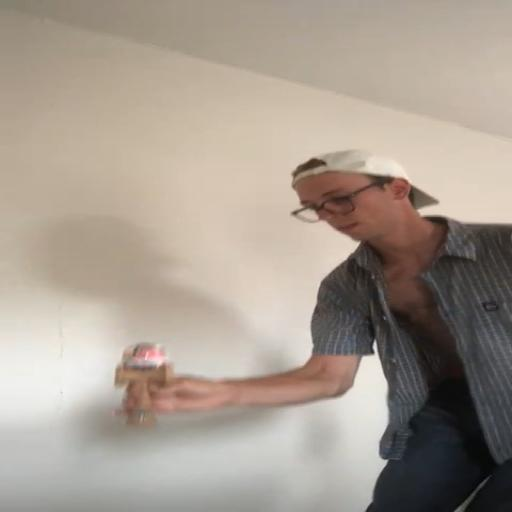kendama_ball: (122, 342, 170, 371)
